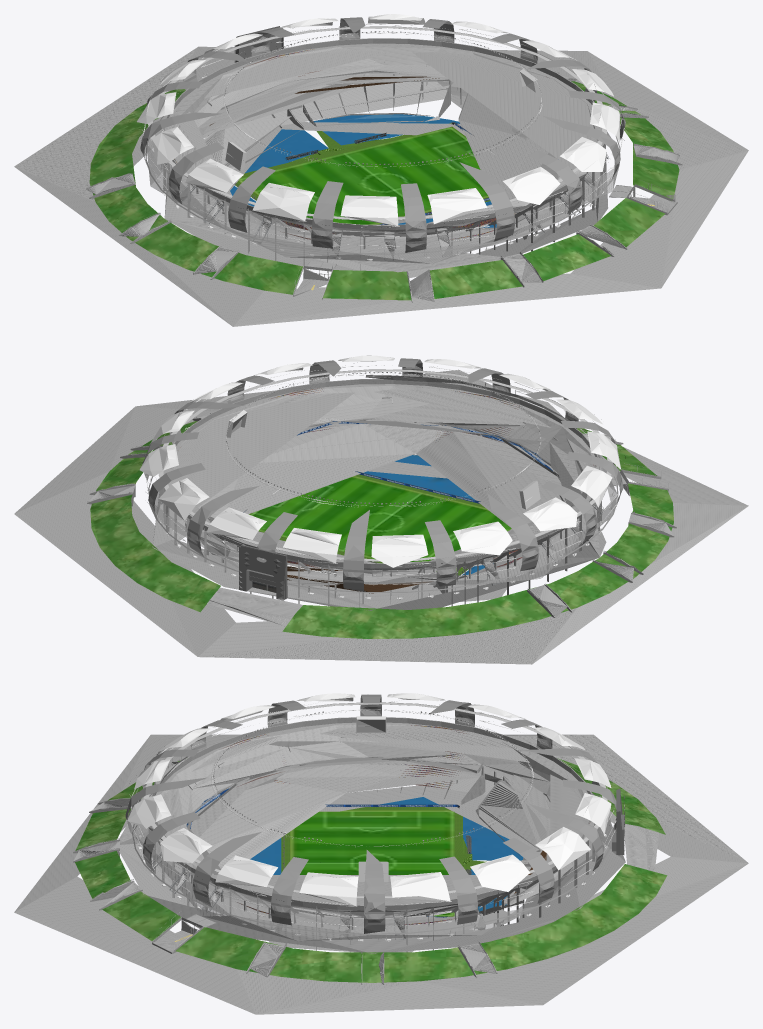
3 views of the same model, one above another, from view 1: azimuth 30°, elevation 25°; view 2: azimuth 150°, elevation 25°; view 3: azimuth 270°, elevation 25° (orthographic). The views are drawn at different scales.
Visible parts, largest first — view 1: Object_7206, Object_1269, Object_2438, Object_4443, Object_2409, Object_2637, Object_2225, Object_2638, Object_1195, Object_2413, Object_1192, Object_2437 (+1 smaller); view 2: Object_7206, Object_1269, Object_2438, Object_4443, Object_2409, Object_2637, Object_1267, Object_1195, Object_2225, Object_2638, Object_1192, Object_7 (+4 smaller); view 3: Object_7206, Object_1269, Object_2438, Object_4443, Object_2409, Object_2637, Object_2225, Object_2638, Object_2413, Object_7, Object_1195, Object_2217 (+3 smaller).
Boxes of the visible parts, x1,y1,x2,y2 form: Object_7206: [14, 38, 748, 326]; Object_1269: [89, 81, 679, 300]; Object_2438: [137, 14, 626, 260]; Object_4443: [140, 17, 625, 252]; Object_2409: [238, 126, 488, 224]; Object_2637: [147, 131, 619, 263]; Object_2225: [230, 114, 496, 227]; Object_2638: [145, 31, 620, 254]; Object_1195: [148, 26, 606, 220]; Object_2413: [235, 123, 490, 224]; Object_1192: [152, 26, 675, 297]; Object_2437: [225, 69, 540, 170]; Object_7206: [14, 369, 748, 664]; Object_1269: [90, 421, 673, 638]; Object_2438: [139, 355, 621, 599]; Object_4443: [142, 358, 623, 591]; Object_2409: [249, 476, 511, 571]; Object_2637: [154, 454, 617, 584]; Object_1267: [239, 545, 287, 600]; Object_1195: [158, 369, 612, 561]; Object_2225: [363, 455, 493, 575]; Object_2638: [148, 372, 618, 593]; Object_1192: [163, 369, 668, 561]; Object_7: [301, 421, 565, 502]; Object_7206: [14, 717, 748, 1014]; Object_1269: [75, 758, 667, 982]; Object_2438: [127, 693, 616, 941]; Object_4443: [125, 694, 616, 933]; Object_2409: [290, 810, 454, 916]; Object_2637: [133, 822, 609, 941]; Object_2225: [250, 797, 523, 911]; Object_2638: [132, 711, 612, 934]; Object_2413: [281, 807, 486, 872]; Object_7: [187, 758, 476, 913]; Object_1195: [144, 702, 607, 898]; Object_2217: [222, 725, 590, 924].
Bounding box in the file's own units: 271 × 39.76 × 301.
49 materials, 21 textured.
